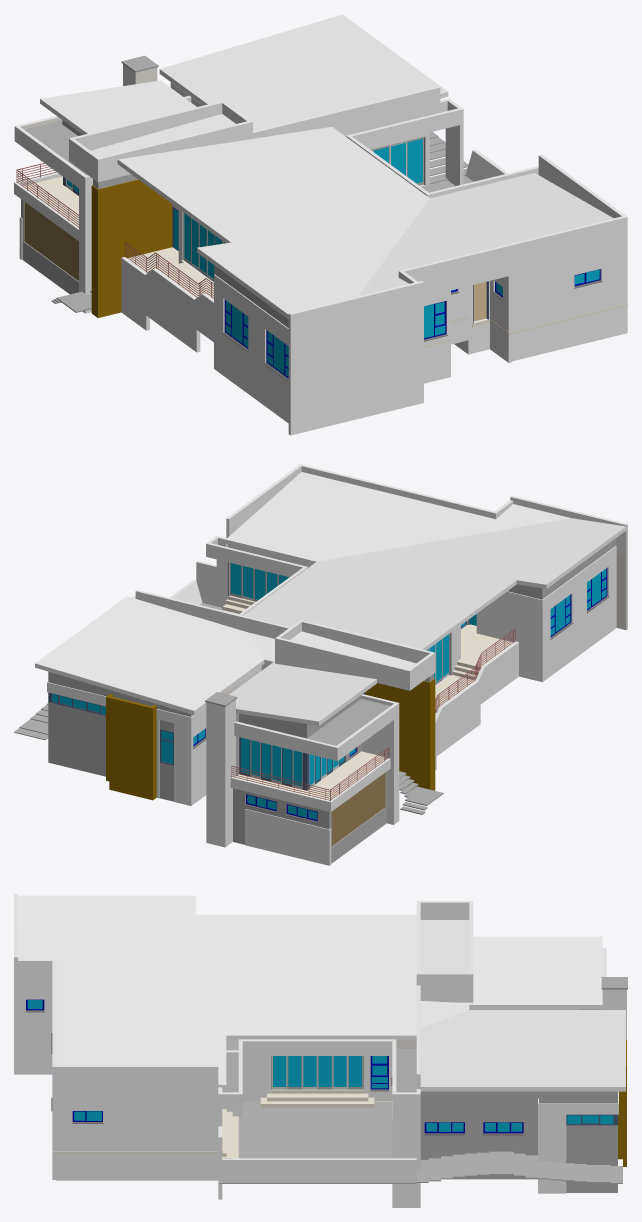
Rendered from house_Opt1.glb.
The picture shows the model from 3 angles, top to bottom: view 1: azimuth 30°, elevation 25°; view 2: azimuth 150°, elevation 25°; view 3: azimuth 270°, elevation 25°; orthographic projection. The views are drawn at different scales.
Visible parts, largest first — view 1: Roofing - Sheets, Plaster(1), Plaster(1).001, Plaster(3), Glass, Ceramic Tile, Garage, railing, Facia, Plaster(2), Pavers, Concrete.002 (+4 smaller); view 2: Roofing - Sheets, Plaster(1), Plaster(1).001, Plaster(3), Glass, Ceramic Tile, Plaster(2), Plaster(4), Facia, Plaster(2).001, railing, Garage (+7 smaller); view 3: Roofing - Sheets, Plaster(1), Plaster(1).001, Pavers, Plaster(2), Glass, Ceramic Tile, Facia, Plaster(4), Concrete.001, Plaster(2).001, Win Frame (+4 smaller).
Boxes of the visible parts, x1,y1,x2,y2 form: Roofing - Sheets: [40, 14, 613, 314]; Plaster(1): [14, 82, 627, 435]; Plaster(1).001: [69, 64, 627, 355]; Plaster(3): [91, 188, 172, 317]; Glass: [67, 138, 599, 377]; Ceramic Tile: [24, 176, 627, 347]; Garage: [25, 202, 78, 280]; railing: [16, 163, 213, 298]; Facia: [40, 69, 448, 319]; Plaster(2): [21, 120, 82, 294]; Pavers: [421, 132, 473, 192]; Concrete.002: [24, 120, 87, 175]; Roofing - Sheets: [35, 472, 625, 721]; Plaster(1): [47, 556, 627, 865]; Plaster(1).001: [132, 464, 627, 728]; Plaster(3): [106, 683, 435, 800]; Glass: [52, 563, 606, 819]; Ceramic Tile: [222, 595, 513, 799]; Plaster(2): [48, 681, 386, 863]; Plaster(4): [48, 702, 105, 776]; Facia: [35, 527, 626, 725]; Plaster(2).001: [48, 538, 615, 734]; railing: [231, 628, 515, 801]; Garage: [331, 773, 384, 845]; Roofing - Sheets: [18, 895, 625, 1086]; Plaster(1): [14, 948, 626, 1207]; Plaster(1).001: [14, 894, 626, 1107]; Pavers: [219, 1101, 622, 1183]; Plaster(2): [420, 1097, 617, 1179]; Glass: [27, 1000, 613, 1131]; Ceramic Tile: [52, 1090, 392, 1158]; Facia: [218, 1004, 625, 1091]; Plaster(4): [566, 1125, 617, 1192]; Concrete.001: [222, 977, 627, 1092]; Plaster(2).001: [420, 1009, 617, 1102]; Win Frame: [26, 999, 523, 1133].
Bounding box in the file's own units: 21.86 × 9.4 × 30.35.
